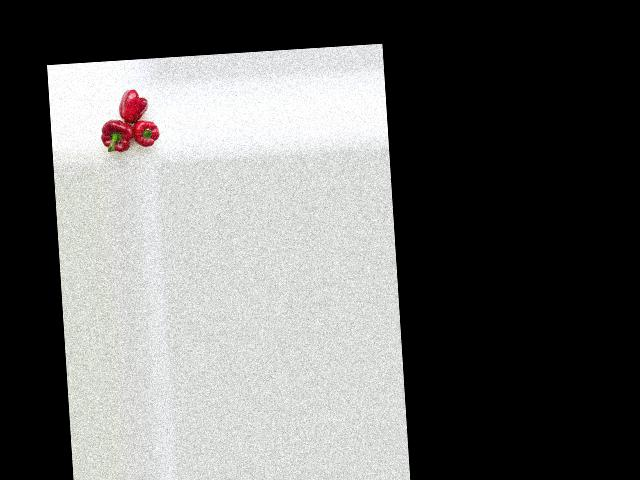bell_pepper: (114, 84, 154, 125)
